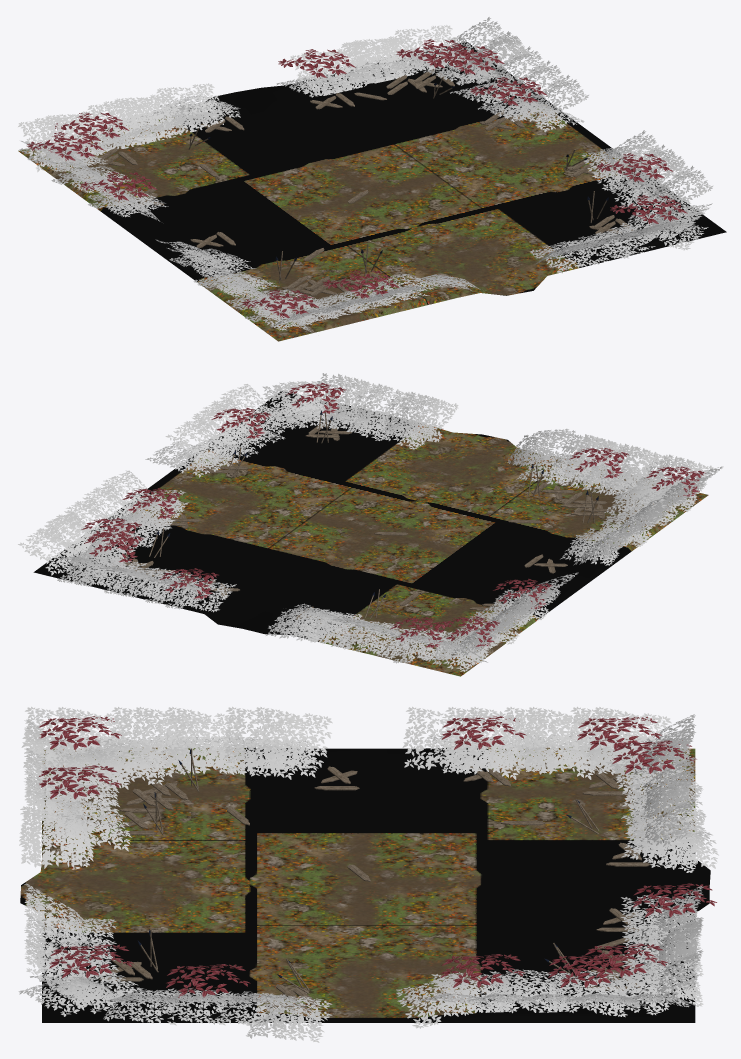
The model's file is 4 Puertas.fbx.
The picture shows the model from 3 angles, top to bottom: view 1: azimuth 30°, elevation 25°; view 2: azimuth 150°, elevation 25°; view 3: azimuth 270°, elevation 25°; orthographic projection. The views are drawn at different scales.
Parts seen in each view (by area): view 1: pCube351; view 2: pCube351; view 3: pCube351.
Part boxes in pixels (x1,y1,x2,y2): pCube351: (18, 17, 726, 341); pCube351: (18, 373, 723, 676); pCube351: (18, 706, 718, 1042).
Bounding box in the file's own units: 520 × 43.36 × 514.
